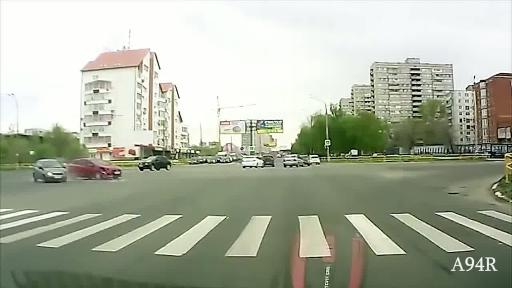Accident: (34, 159, 126, 184)
CAR: (140, 155, 173, 174), (280, 154, 308, 172), (242, 152, 264, 172)
